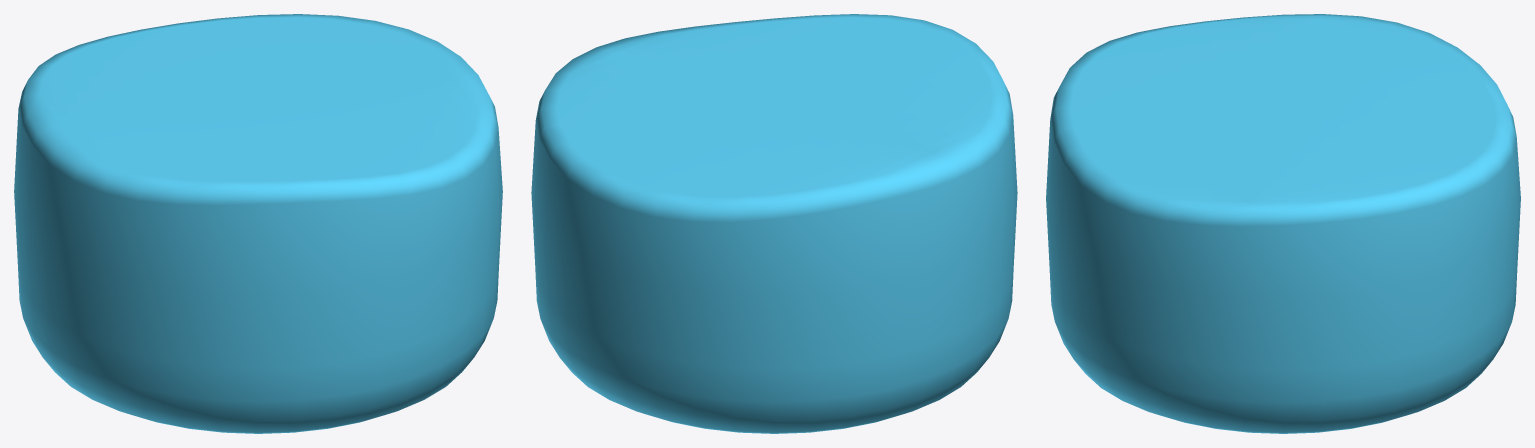
Rendered from Liquid_v2.FBX.
The picture shows the model from 3 angles, left to right: view 1: azimuth 30°, elevation 25°; view 2: azimuth 150°, elevation 25°; view 3: azimuth 270°, elevation 25°; orthographic projection. The views are drawn at different scales.
Visible parts, largest first — view 1: Beaker_Liquid; view 2: Beaker_Liquid; view 3: Beaker_Liquid.
Part boxes in pixels (x1,y1,x2,y2): Beaker_Liquid: (14, 14, 502, 433); Beaker_Liquid: (531, 14, 1017, 433); Beaker_Liquid: (1046, 14, 1520, 433).
Size of the model in its own units: 32.73 by 19.32 by 32.73.
